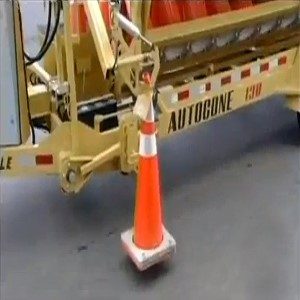traffic cone: (120, 72, 177, 271)
